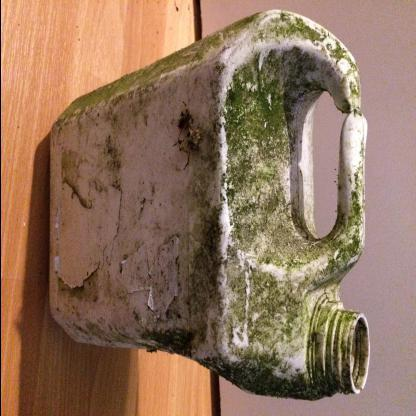plastik: (10, 45, 403, 375)
